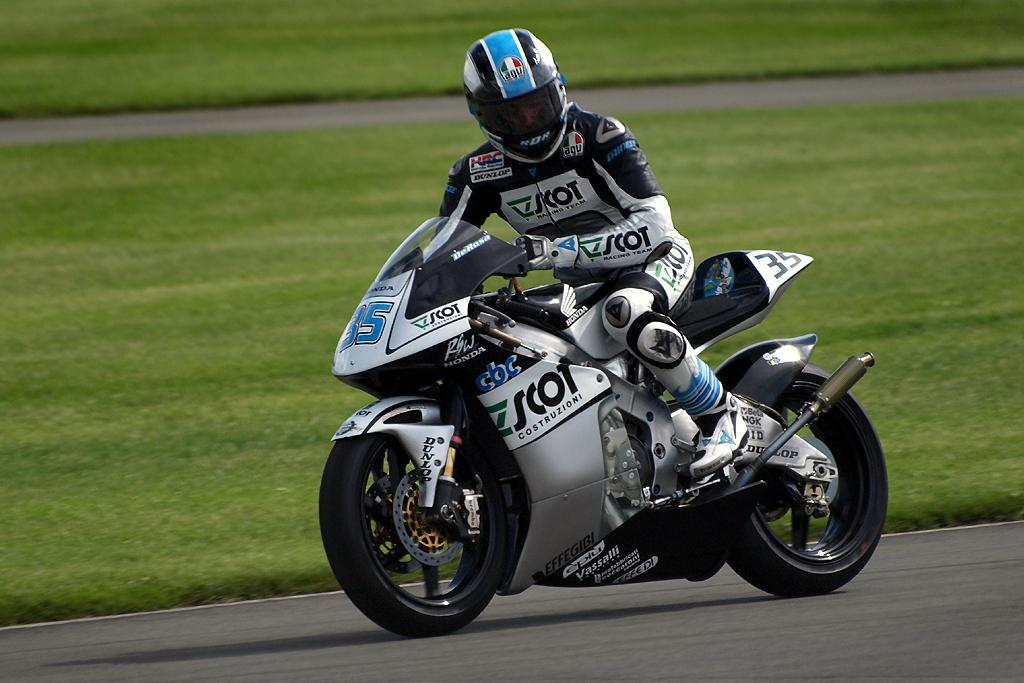helmet: (463, 27, 568, 166)
